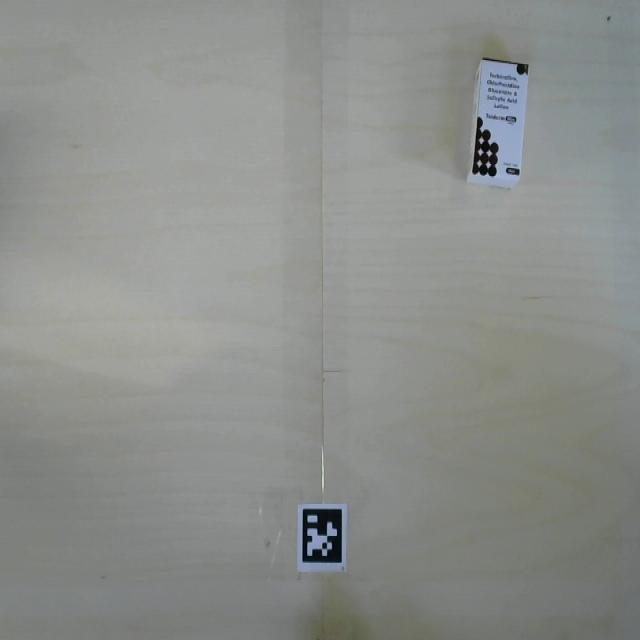eyedrop: (457, 47, 537, 197)
